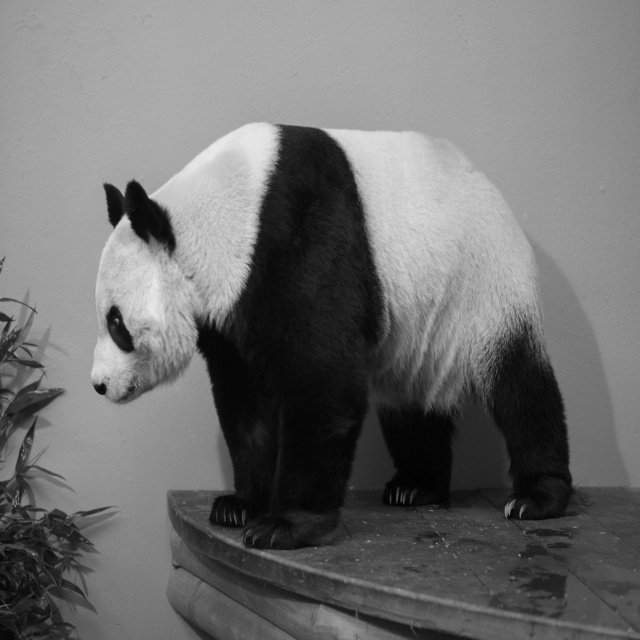Panda: (90, 120, 569, 551)
